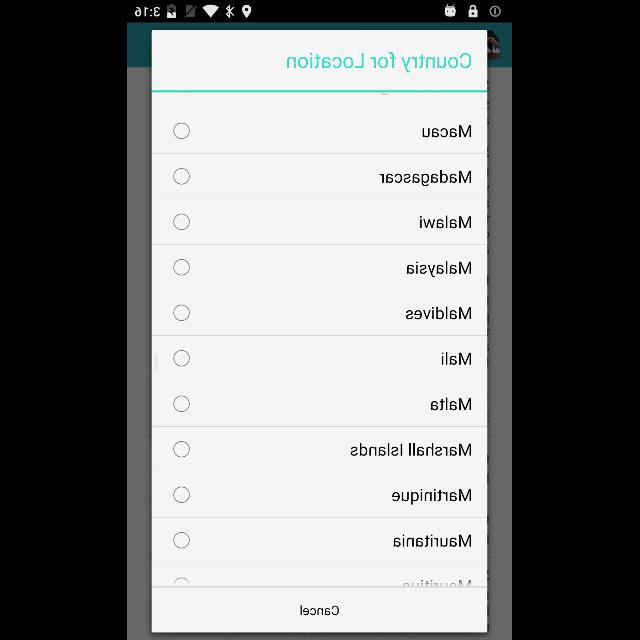checkbox: (174, 123, 190, 139), (174, 168, 190, 184), (174, 214, 190, 230), (174, 259, 190, 275), (174, 305, 190, 321), (174, 350, 190, 366), (174, 396, 190, 412), (174, 441, 190, 457), (174, 487, 190, 503), (174, 532, 190, 548)
panel: (152, 30, 488, 632)
text: (288, 52, 472, 74), (352, 442, 472, 456), (380, 170, 472, 187), (392, 488, 472, 506), (408, 262, 472, 278), (394, 534, 472, 546), (406, 306, 472, 320), (423, 125, 472, 138), (420, 216, 472, 228), (432, 397, 472, 411), (442, 352, 472, 366)
textbutton: (152, 588, 488, 632)
uppertaskbar: (128, 0, 512, 22)
